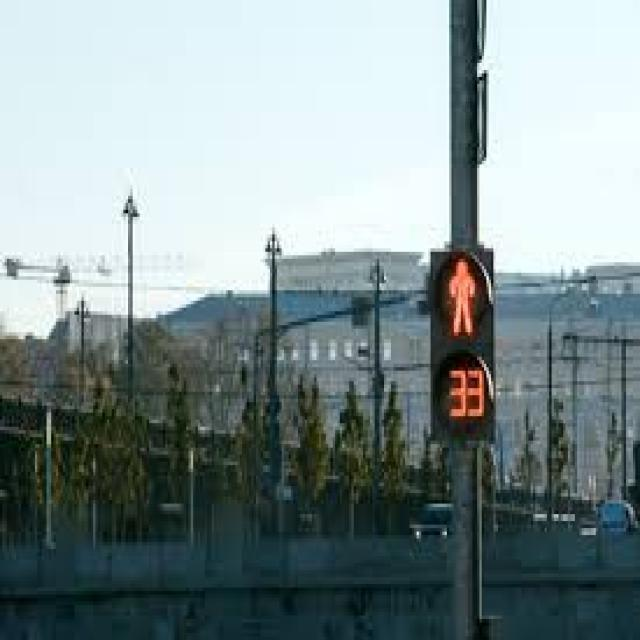red_light: (437, 255, 490, 428)
